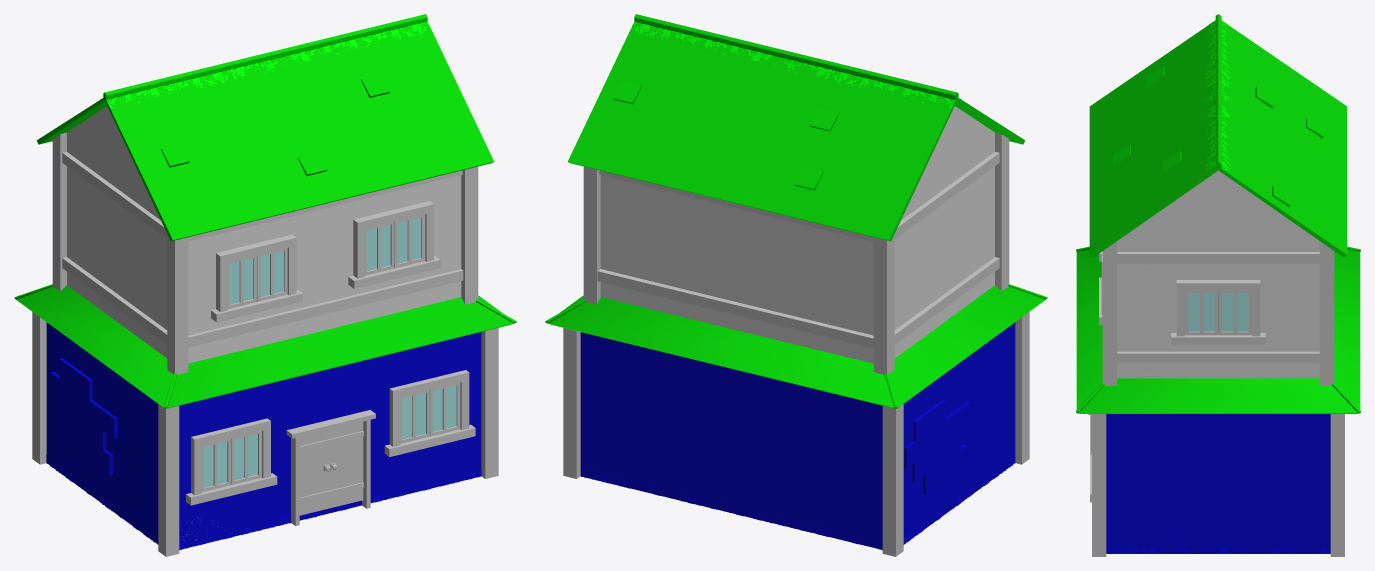
File: House_2f_1.fbx
3 views of the same model, side by side, from view 1: azimuth 30°, elevation 25°; view 2: azimuth 150°, elevation 25°; view 3: azimuth 270°, elevation 25° (orthographic). The views are drawn at different scales.
Visible parts, largest first — view 1: House_2f_1; view 2: House_2f_1; view 3: House_2f_1.
Part boxes in pixels (left/top/right/bottom): House_2f_1: left=14, top=14, right=516, bottom=556; House_2f_1: left=545, top=14, right=1047, bottom=556; House_2f_1: left=1076, top=14, right=1360, bottom=556.
Size of what is drawn, in the model's own units: 923 by 1037 by 683.
